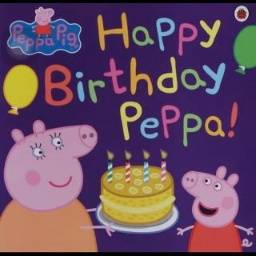Peppa: (176, 163, 256, 253)
